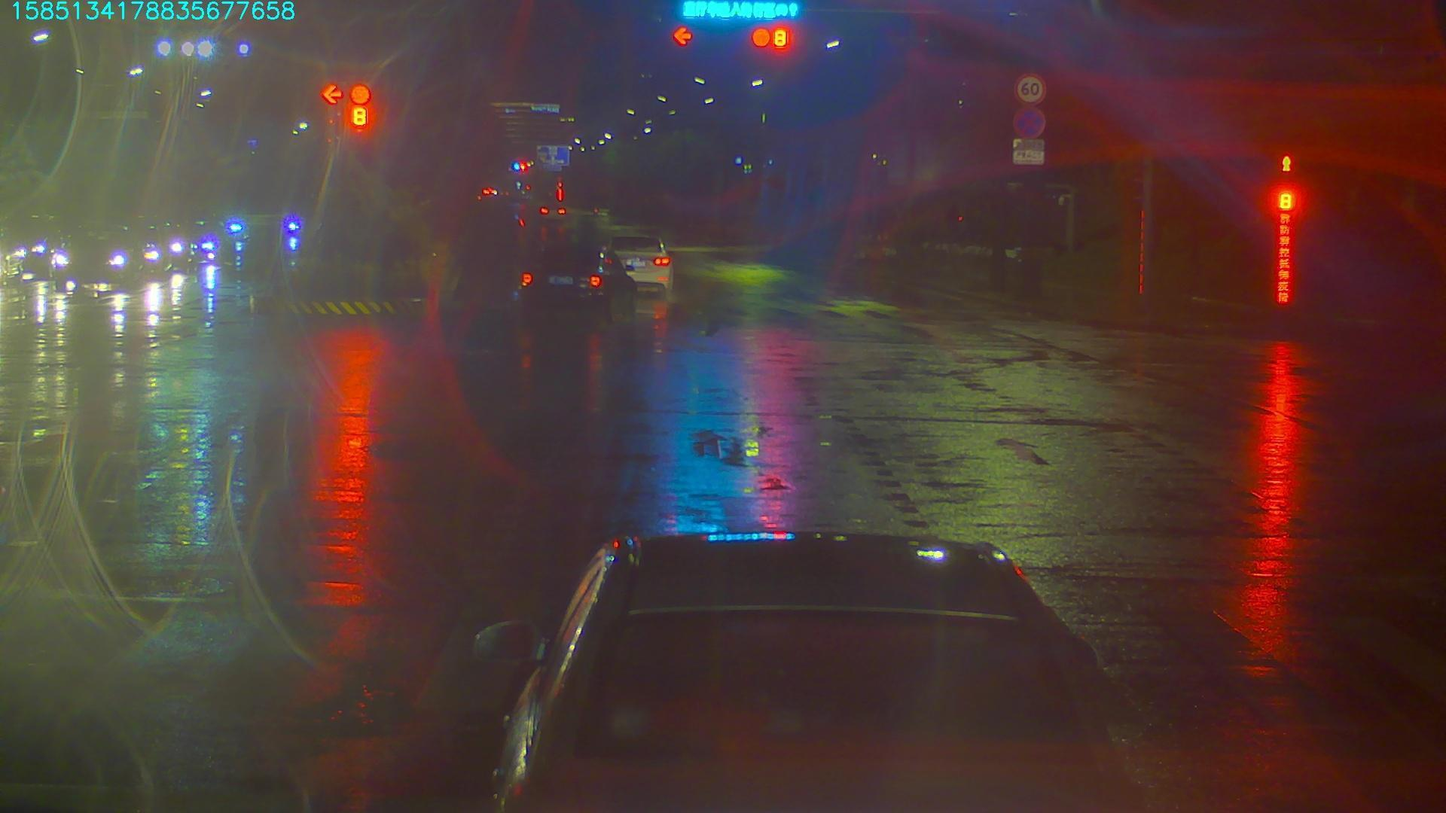red: (751, 27, 798, 54), (664, 24, 700, 47)
wait_on: (676, 1, 804, 24)
